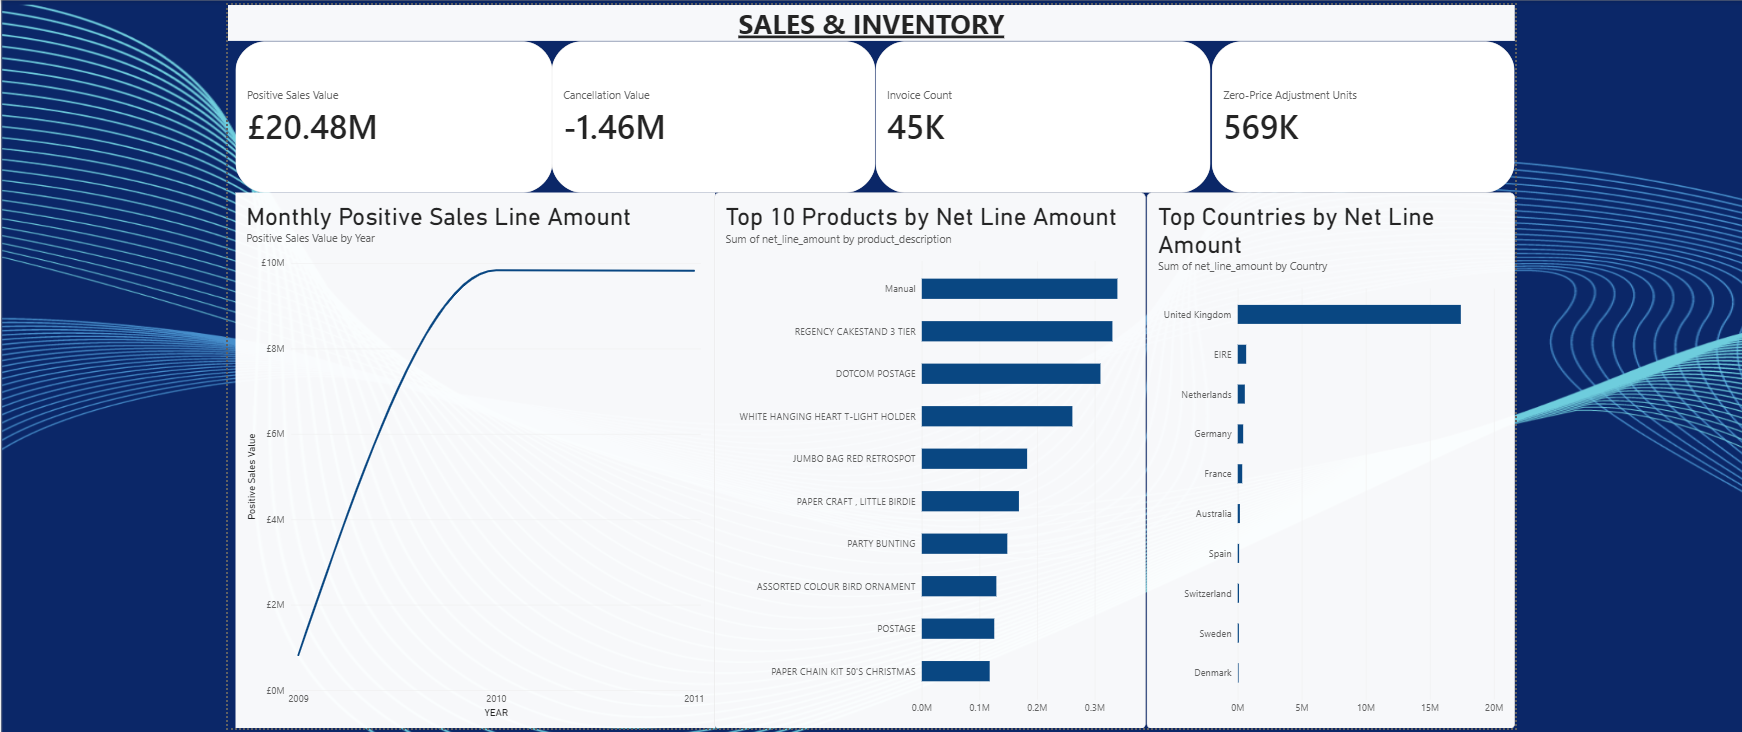

This screenshot's page, from the dashboard's own definition file:
{"tool":"powerbi","page":{"name":"Sales Overview","canvas":[1920,1080],"ordinal":0},"visuals":[{"type":"cardVisual","fields":{"Data":["monthly_sales.Positive Sales Value"]},"box":[10.3,53.5,473.4,226.4],"z":0},{"type":"cardVisual","fields":{"Data":["monthly_sales.Cancellation Value"]},"box":[483.7,53.5,483.7,226.4],"z":1000},{"type":"cardVisual","fields":{"Data":["monthly_sales.Invoice Count"]},"box":[967.4,53.5,500.2,226.4],"z":2000},{"type":"cardVisual","fields":{"Data":["monthly_sales.Zero-Price Adjustment Units"]},"box":[1467.6,53.5,452.8,226.4],"z":3000},{"type":"lineChart","title":"Monthly Positive Sales Line Amount","fields":{"Category":["monthly_sales.MonthDate.Variation.Date Hierarchy.Year","monthly_sales.MonthDate.Variation.Date Hierarchy.Quarter","monthly_sales.MonthDate.Variation.Date Hierarchy.Month","monthly_sales.MonthDate.Variation.Date Hierarchy.Day"],"Y":["monthly_sales.Positive Sales Value"]},"box":[10.3,279.9,716.3,800.7],"z":4000},{"type":"clusteredBarChart","title":"Top 10 Products by Net Line Amount","fields":{"Category":["product_performance.product_description"],"Y":["Sum(product_performance.net_line_amount)"]},"box":[726.6,279.9,644.3,800.7],"z":5000},{"type":"clusteredBarChart","title":"Top Countries by Net Line Amount","fields":{"Category":["country_performance.Country"],"Y":["Sum(country_performance.net_line_amount)"]},"box":[1370.8,279.9,549.6,800.7],"z":6000},{"type":"textbox","box":[0,0,1920.4,53.5],"z":7000}]}

Visuals, with their boxes on the page's 1920x1080 design canvas (x1, y1, x2, y2). These are canvas units, not pixel positions in the 1742x732 screenshot, which may show the page scaled, cropped or inside an application window:
cardVisual - monthly_sales.Positive Sales Value: l=10, t=54, r=484, b=280
cardVisual - monthly_sales.Cancellation Value: l=484, t=54, r=967, b=280
cardVisual - monthly_sales.Invoice Count: l=967, t=54, r=1468, b=280
cardVisual - monthly_sales.Zero-Price Adjustment Units: l=1468, t=54, r=1920, b=280
"Monthly Positive Sales Line Amount" lineChart: l=10, t=280, r=727, b=1081
"Top 10 Products by Net Line Amount" clusteredBarChart: l=727, t=280, r=1371, b=1081
"Top Countries by Net Line Amount" clusteredBarChart: l=1371, t=280, r=1920, b=1081
textbox: l=0, t=0, r=1920, b=54
